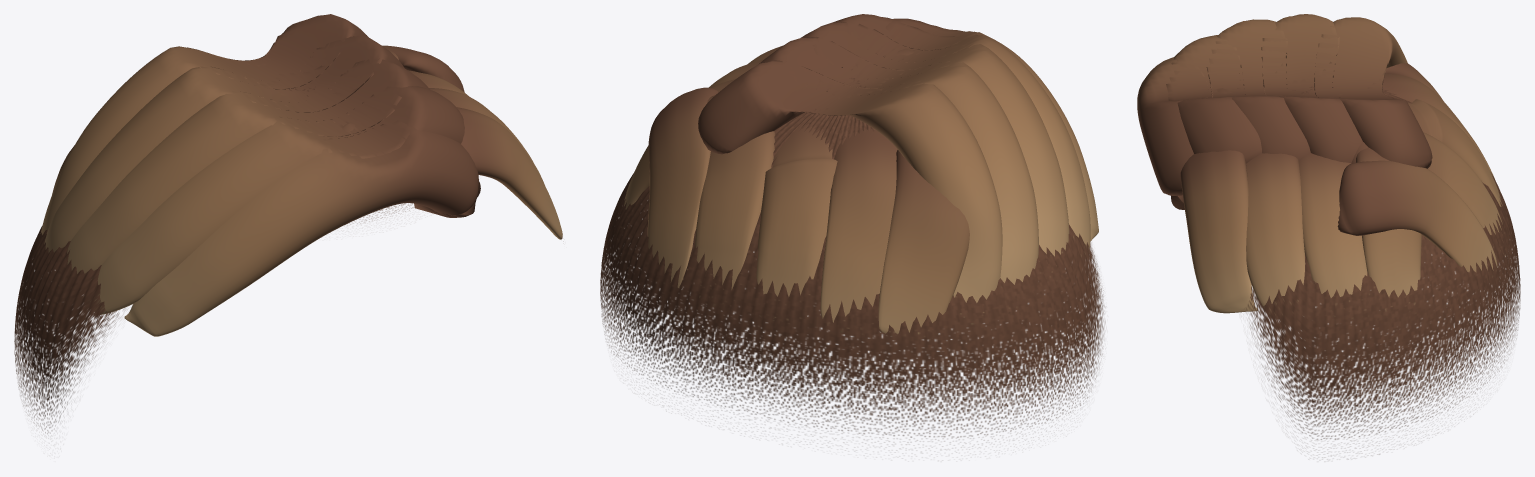
Rendered from Masculine-taper-cowboy256-hair-ombre.glb.
3 renders of one model, left to right at view 1: azimuth 30°, elevation 25°; view 2: azimuth 150°, elevation 25°; view 3: azimuth 270°, elevation 25°, orthographic. The views are drawn at different scales.
Parts seen in each view (by area): view 1: 226 hair / Hair252 / sculpted locks, 226 hair / Hair252 / gentle tonal variation, 226 hair / Hair256 / selected B sides; view 2: 226 hair / Hair252 / sculpted locks, 226 hair / Hair256 / selected B sides, 226 hair / Hair252 / gentle tonal variation; view 3: 226 hair / Hair252 / sculpted locks, 226 hair / Hair256 / selected B sides, 226 hair / Hair252 / gentle tonal variation.
Boxes of the visible parts, box(x1,y1,x2,y2) form: 226 hair / Hair252 / sculpted locks: box(40, 14, 544, 314); 226 hair / Hair252 / gentle tonal variation: box(124, 107, 562, 336); 226 hair / Hair256 / selected B sides: box(14, 83, 420, 433); 226 hair / Hair252 / sculpted locks: box(623, 14, 1090, 336); 226 hair / Hair256 / selected B sides: box(600, 78, 1105, 446); 226 hair / Hair252 / gentle tonal variation: box(748, 18, 1098, 334); 226 hair / Hair252 / sculpted locks: box(1166, 14, 1505, 318); 226 hair / Hair256 / selected B sides: box(1246, 86, 1520, 459); 226 hair / Hair252 / gentle tonal variation: box(1137, 57, 1494, 313).
Size of the model in its own units: 0.972 by 0.648 by 0.7438.
3 materials, 1 textured.
